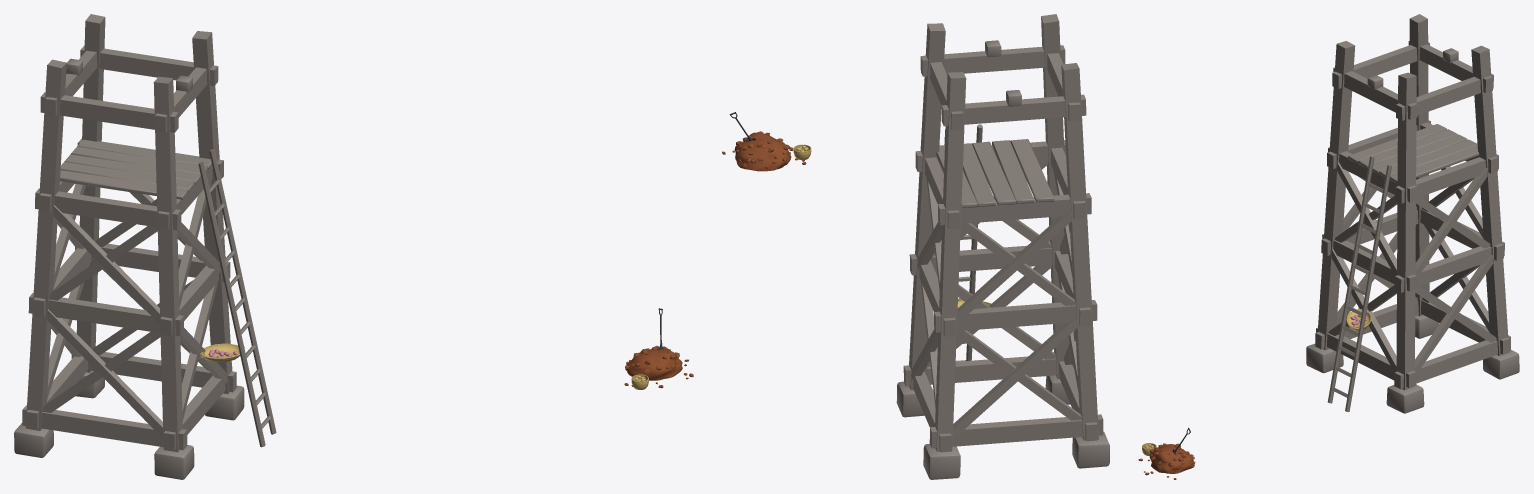
File: nomad_building_b18_decor.fbx
3 renders of one model, left to right at view 1: azimuth 30°, elevation 25°; view 2: azimuth 150°, elevation 25°; view 3: azimuth 270°, elevation 25°, orthographic. The views are drawn at different scales.
Visible parts, largest first — view 1: C__BellFrame__01, C__OrePile_Rust__01; view 2: C__BellFrame__01, C__OrePile_Rust__01; view 3: C__BellFrame__01, C__OrePile_Rust__01.
Part boxes in pixels (x1=…): C__BellFrame__01: x1=14, y1=14, x2=276, y2=479; C__OrePile_Rust__01: x1=624, y1=308, x2=693, y2=389; C__BellFrame__01: x1=896, y1=14, x2=1109, y2=479; C__OrePile_Rust__01: x1=722, y1=112, x2=811, y2=171; C__BellFrame__01: x1=1306, y1=14, x2=1519, y2=413; C__OrePile_Rust__01: x1=1138, y1=427, x2=1195, y2=479.
Bounding box in the file's own units: 1542 × 1071 × 1144.
